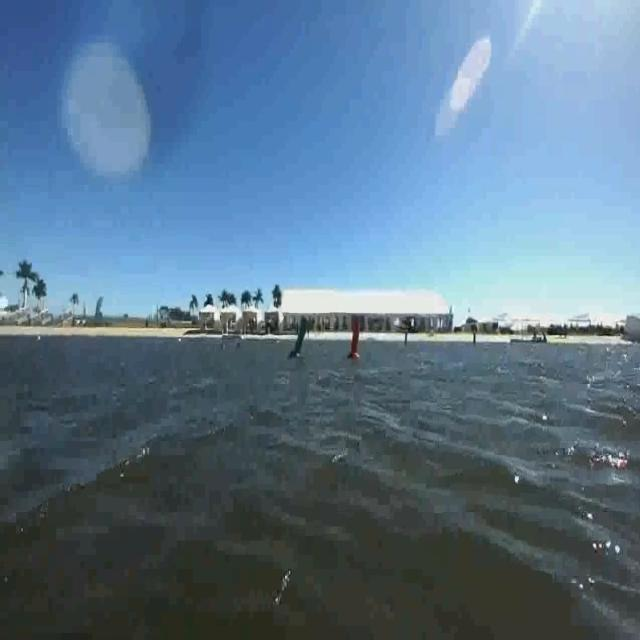green-column-buoy: (286, 311, 312, 366)
red-column-buoy: (340, 309, 372, 367)
